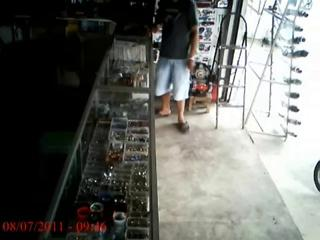Normal: (150, 0, 200, 130)
